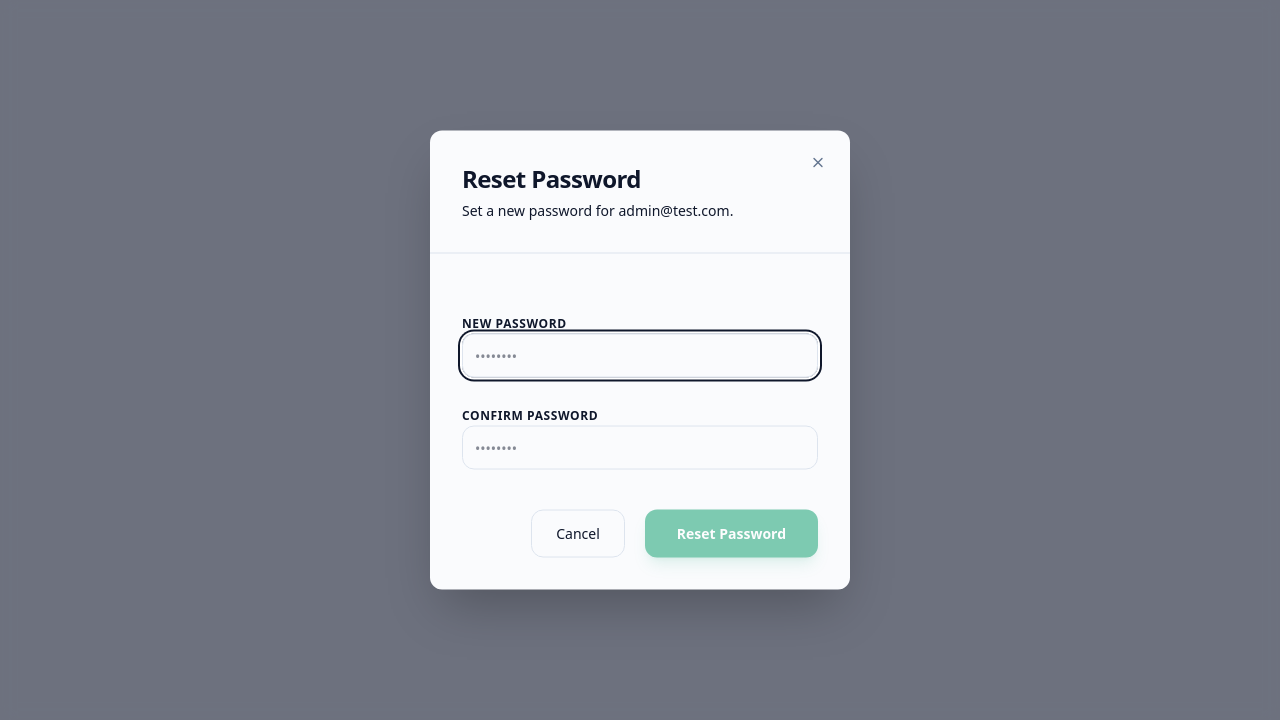
ResetPasswordDialog › enables submit when passwords match
The width and height of the screenshot is (1280, 720).
Type "newpass123" into the password field labelled "New Password" at (640, 356), box left=462, top=334, right=818, bottom=378
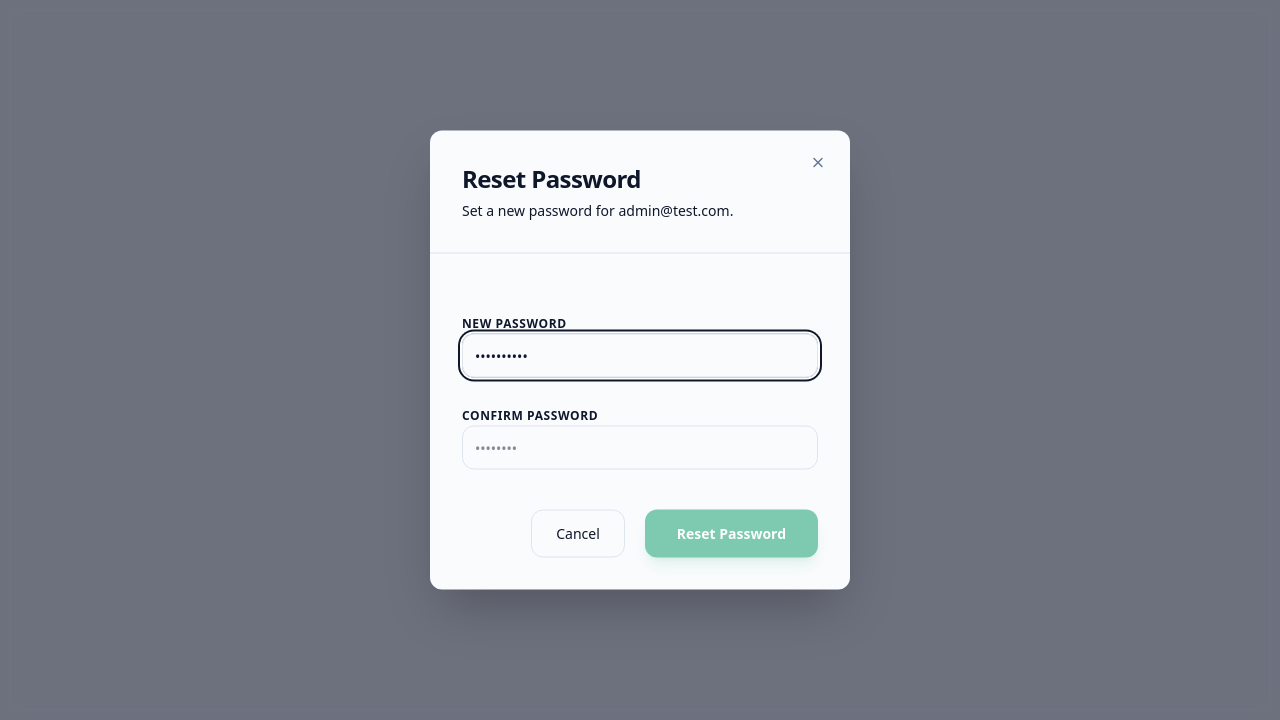
Type "newpass123" into the password field labelled "Confirm Password" at (640, 448), box left=462, top=426, right=818, bottom=470
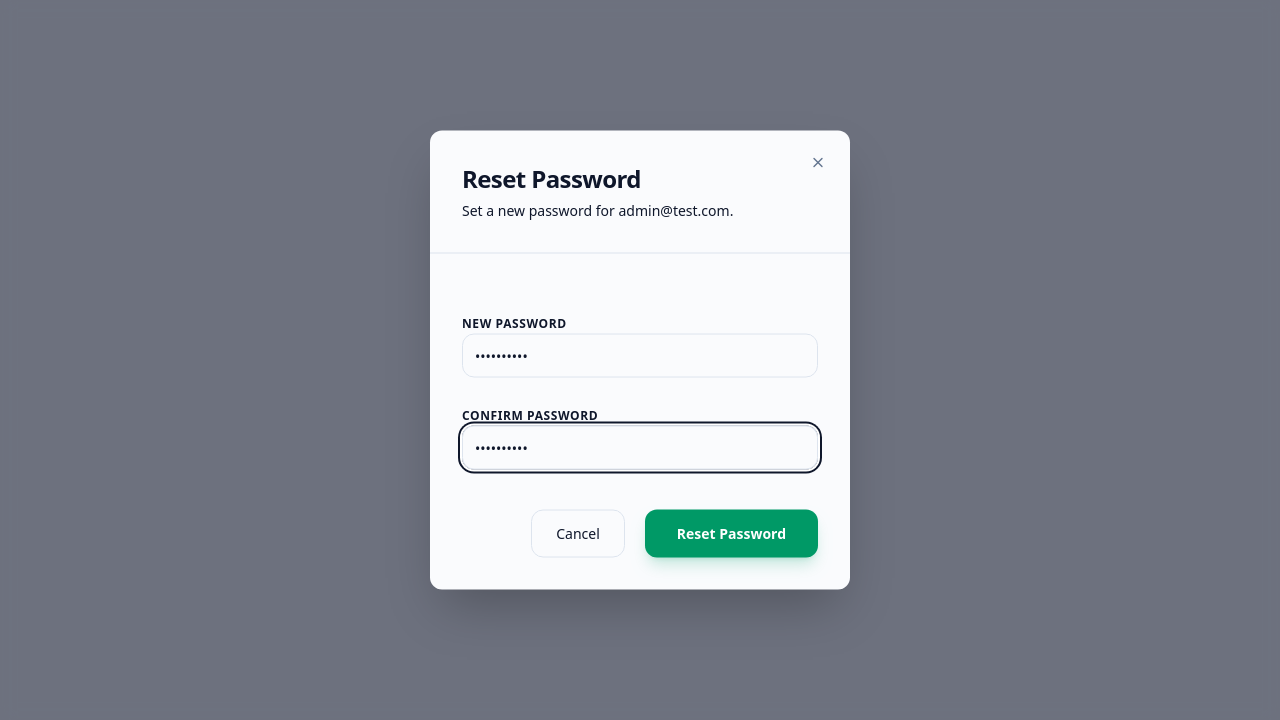
Expected: the button "Reset Password" is enabled, left=645, top=510, right=818, bottom=558
